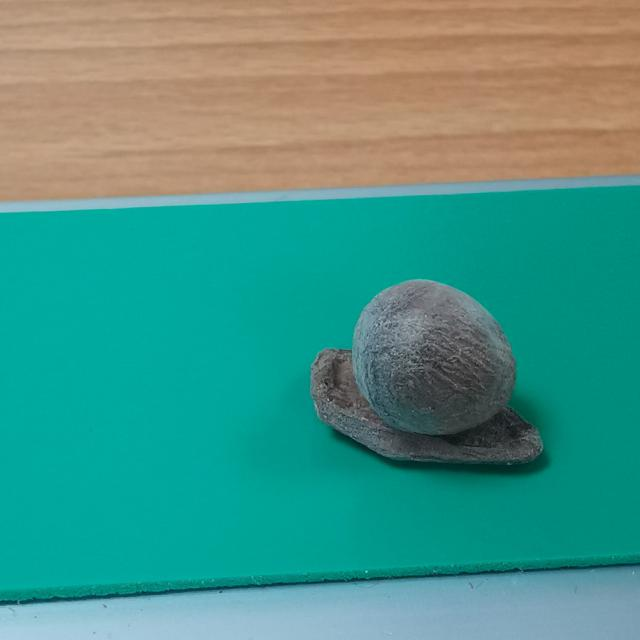Agglomerated_cocoabeans: (198, 264, 594, 526)
